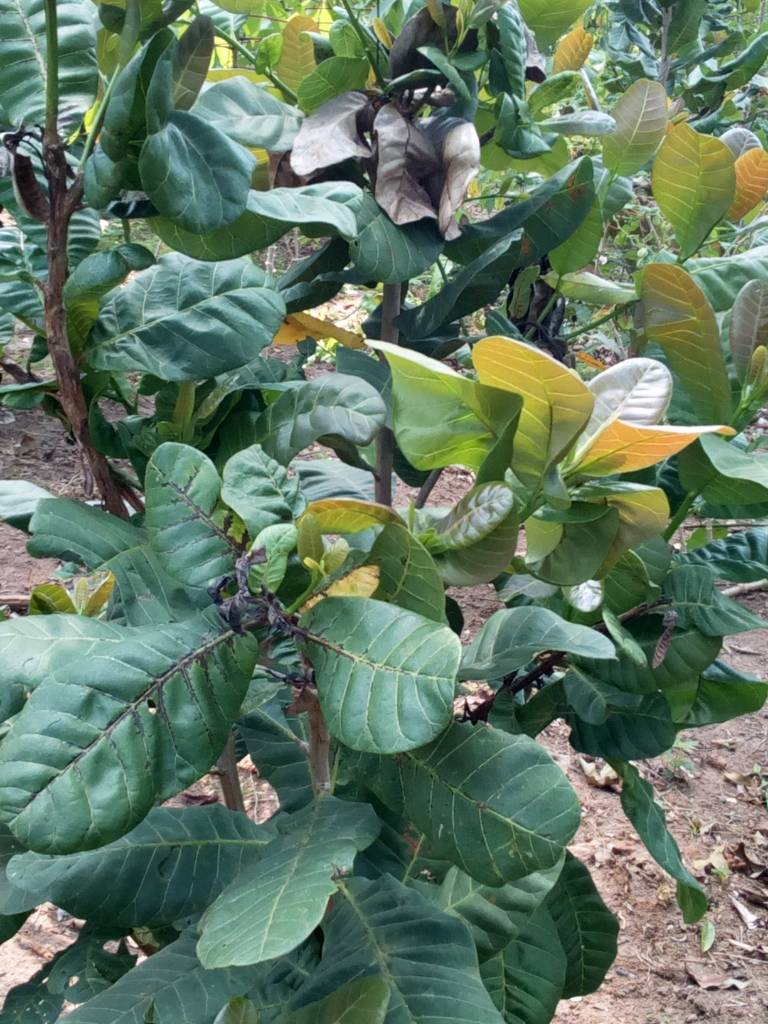Dessèchement des bourgeons: (372, 82, 443, 224), (200, 580, 310, 666), (430, 116, 485, 244)
